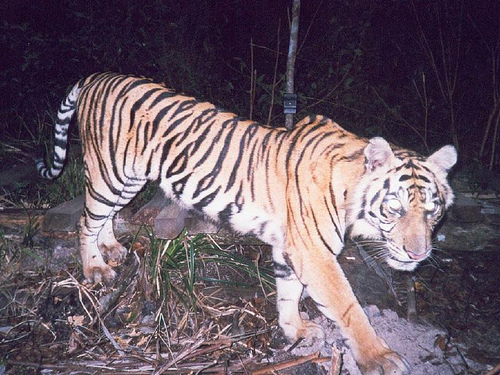Tigre: (59, 68, 443, 329)
